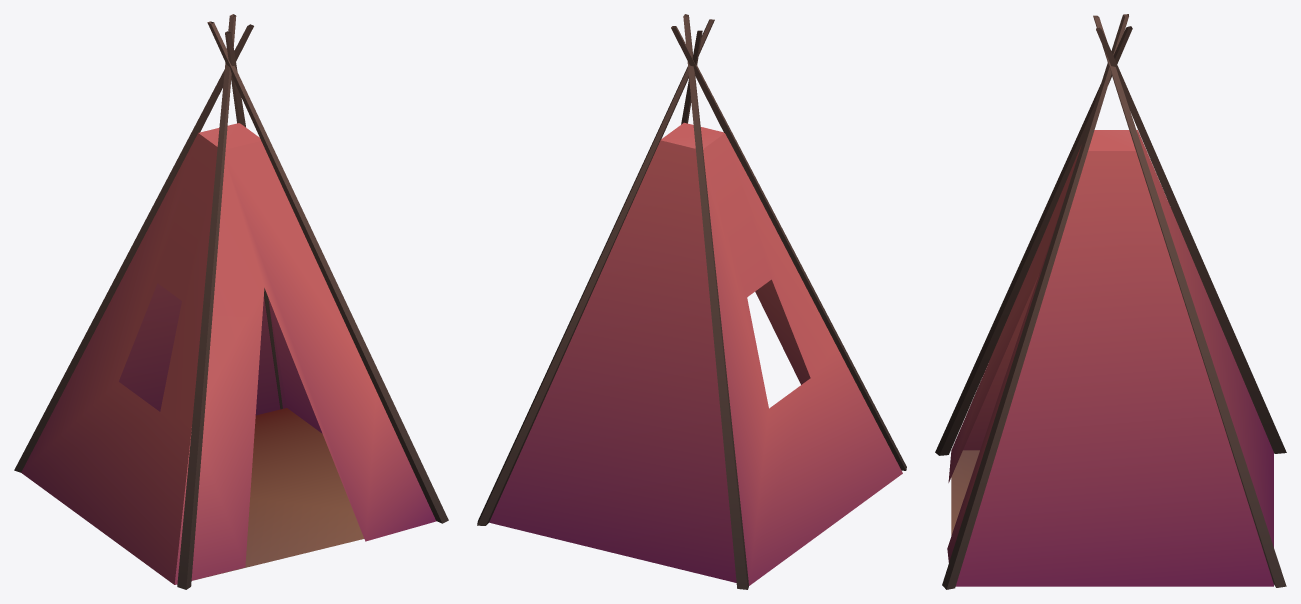
File: tent.fbx
3 renders of one model, left to right at view 1: azimuth 30°, elevation 25°; view 2: azimuth 150°, elevation 25°; view 3: azimuth 270°, elevation 25°, orthographic. The views are drawn at different scales.
Parts seen in each view (by area): view 1: tent; view 2: tent; view 3: tent.
Part boxes in pixels (bbox=[...]): tent: bbox=[14, 14, 448, 589]; tent: bbox=[477, 14, 906, 589]; tent: bbox=[935, 14, 1286, 589].
Bounding box in the file's own units: 2.2 × 3.62 × 2.32.
